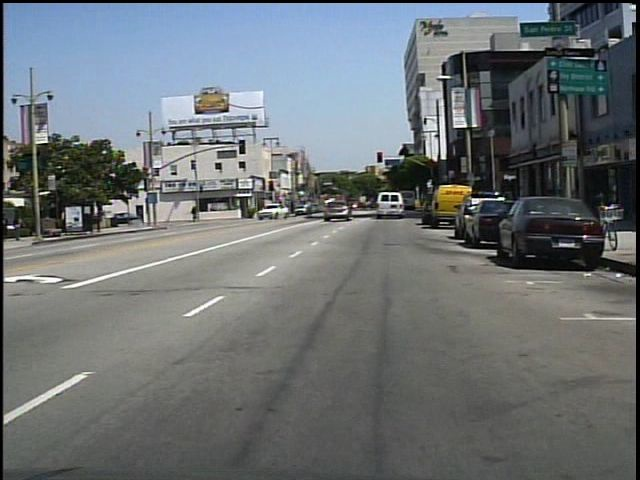person: (13, 211, 32, 246), (2, 213, 16, 244), (307, 195, 320, 224), (193, 205, 201, 225)
